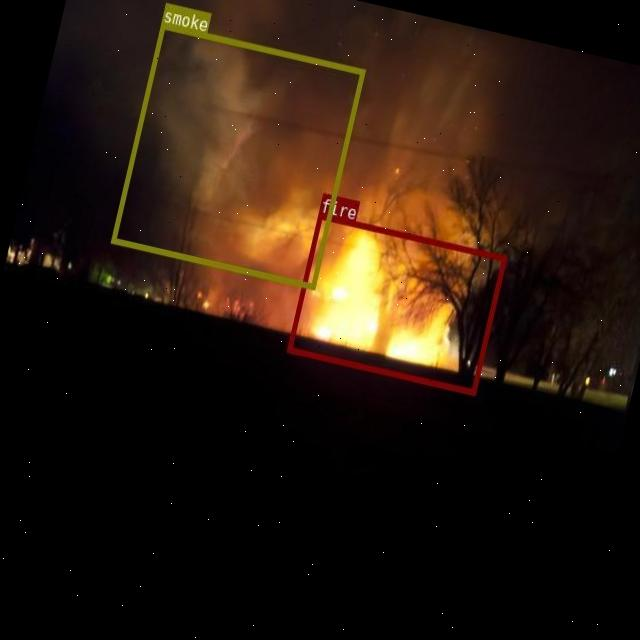fire: (286, 212, 506, 394)
smoke: (110, 22, 364, 288)
